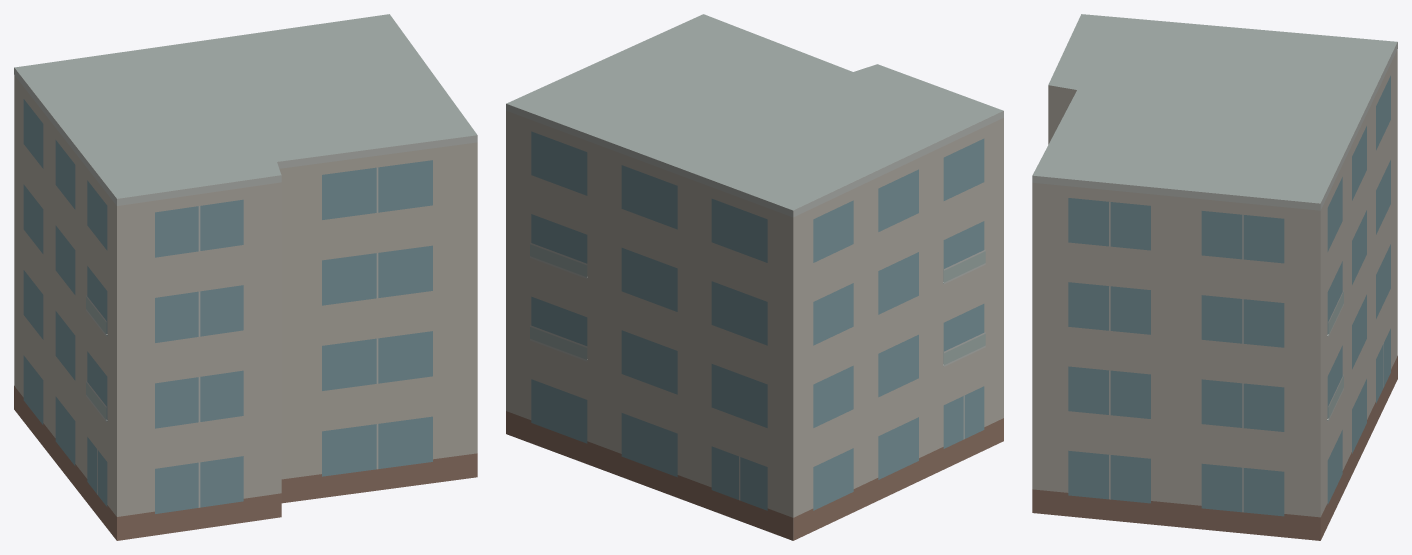
File: survey-upis-32859891.glb
The picture shows the model from 3 angles, left to right: view 1: azimuth 30°, elevation 25°; view 2: azimuth 150°, elevation 25°; view 3: azimuth 270°, elevation 25°; orthographic projection. The views are drawn at different scales.
Parts seen in each view (by area): view 1: survey-upis-32859891.tmp; view 2: survey-upis-32859891.tmp; view 3: survey-upis-32859891.tmp.
Boxes of the visible parts, x1,y1,x2,y2 form: survey-upis-32859891.tmp: (14, 14, 477, 540); survey-upis-32859891.tmp: (506, 14, 1003, 540); survey-upis-32859891.tmp: (1032, 14, 1397, 540).
Bounding box in the file's own units: 14.01 × 11.61 × 11.41.
